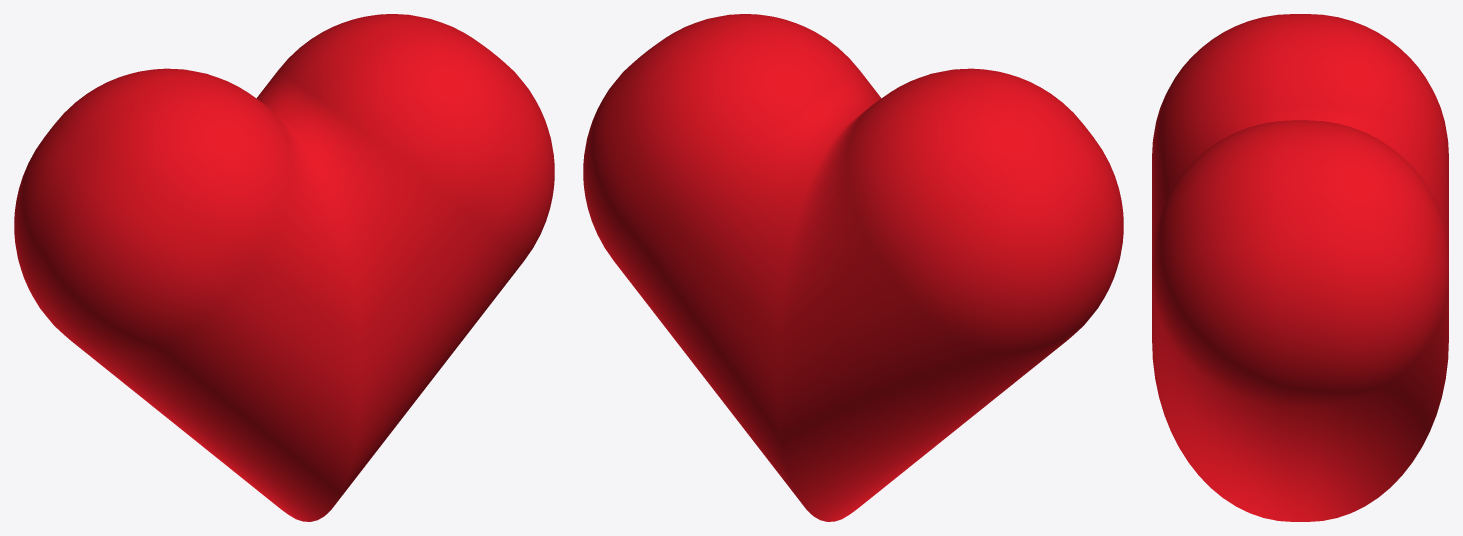
The model's file is heart.glb.
3 renders of one model, left to right at view 1: azimuth 30°, elevation 25°; view 2: azimuth 150°, elevation 25°; view 3: azimuth 270°, elevation 25°, orthographic. The views are drawn at different scales.
Parts seen in each view (by area): view 1: Cube; view 2: Cube; view 3: Cube.
Part boxes in pixels (<box>): Cube: <box>14,14,554,521</box>; Cube: <box>583,14,1123,521</box>; Cube: <box>1152,14,1448,521</box>.
Bounding box in the file's own units: 3.74 × 3.28 × 2.
